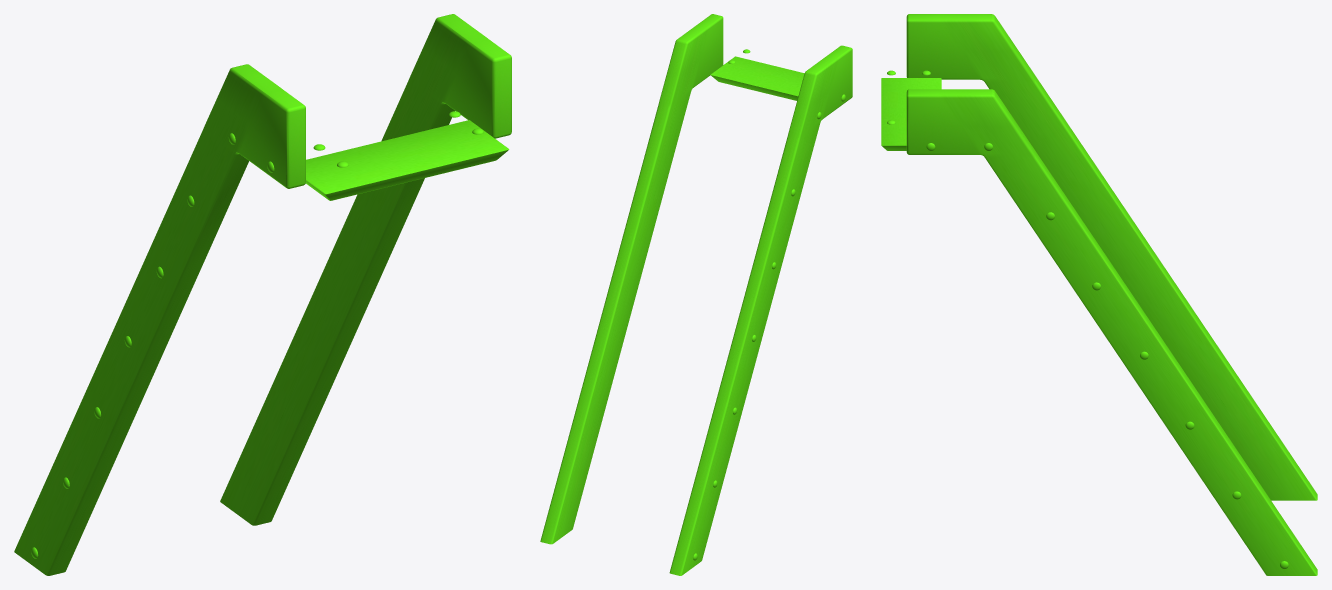
The picture shows the model from 3 angles, left to right: view 1: azimuth 30°, elevation 25°; view 2: azimuth 150°, elevation 25°; view 3: azimuth 270°, elevation 25°; orthographic projection. The views are drawn at different scales.
Visible parts, largest first — view 1: Slide; view 2: Slide; view 3: Slide.
Boxes of the visible parts, x1=… form: Slide: x1=14, y1=14, x2=511, y2=575; Slide: x1=540, y1=14, x2=852, y2=575; Slide: x1=881, y1=14, x2=1317, y2=575.
Size of the model in its own units: 64.92 by 172 by 142.
1 material, 1 textured.
